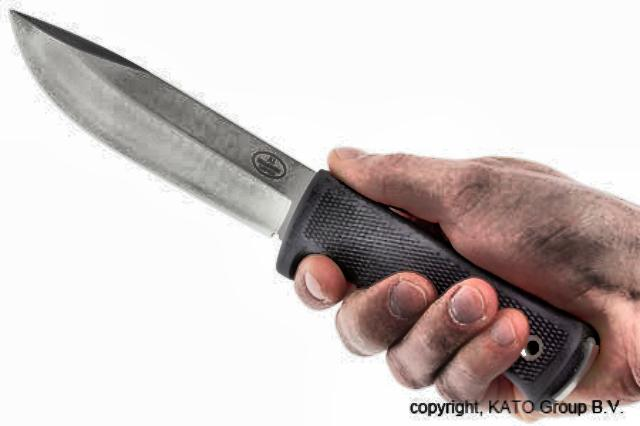knife: (0, 0, 504, 382)
